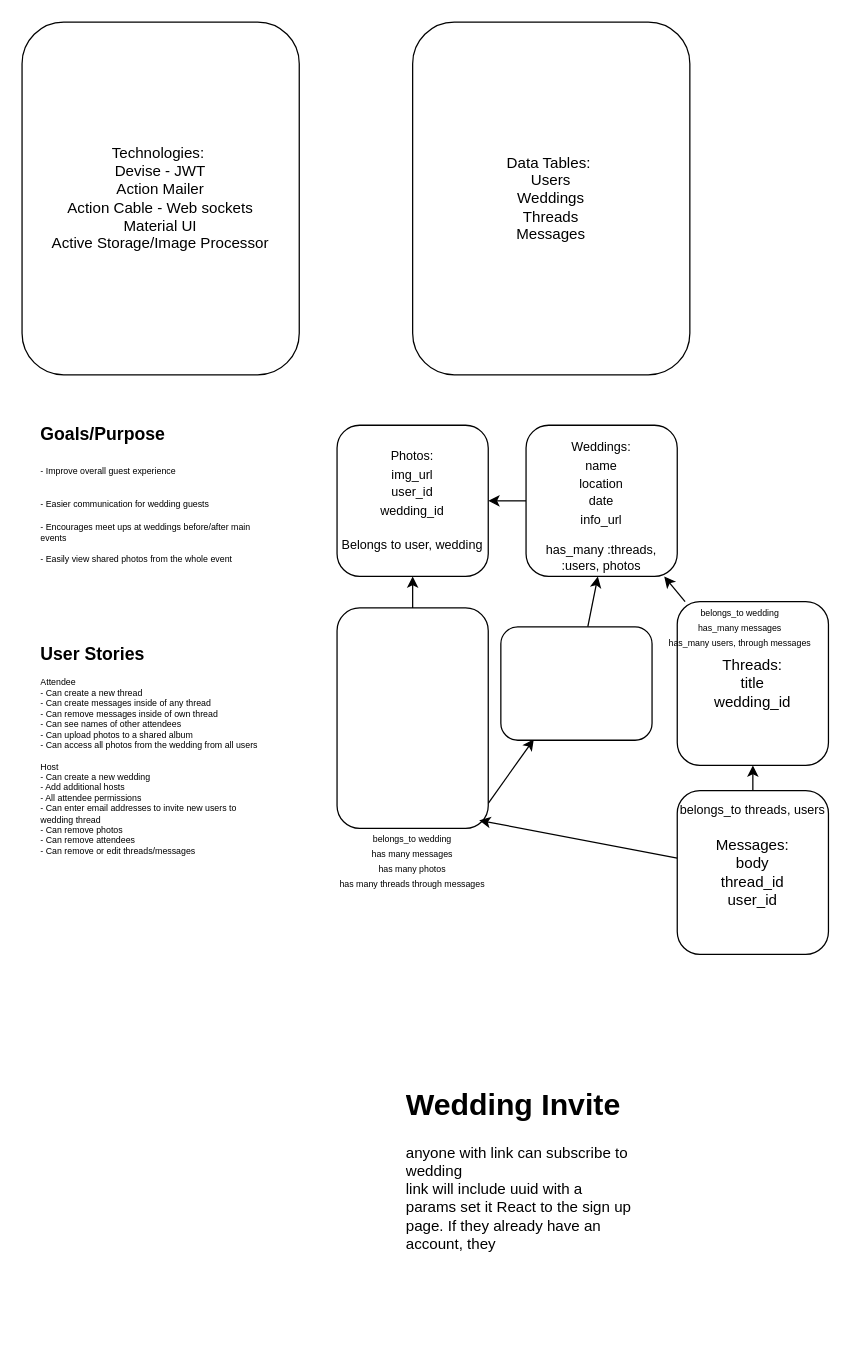
The diagram is 863 pixels wide and 1367 high, and some of its shapes have lost their labels. Each missing label, with the centre of its shape:
"Join Table wedding_id user_id permissions" belongs at point (576, 683).
"Users: first_name last_name email_address password" belongs at point (412, 717).
